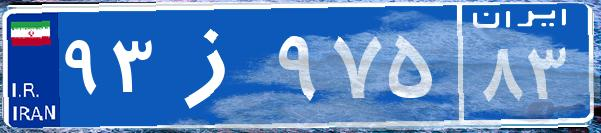3: (110, 28, 158, 105), (525, 38, 570, 115)
5: (385, 28, 445, 110)
7: (330, 28, 385, 110)
8: (475, 38, 525, 113)
9: (273, 28, 330, 110), (57, 26, 110, 107)
ز: (158, 15, 273, 115)
